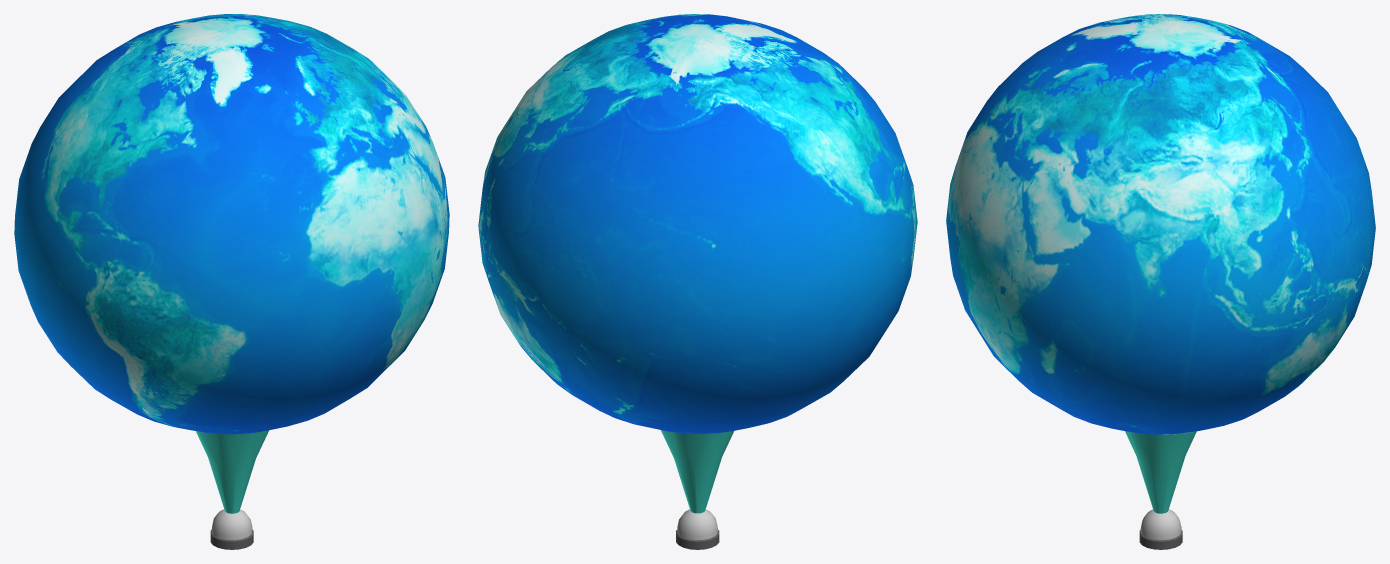
Rendered from Globo_Hollo.fbx.
3 views of the same model, side by side, from view 1: azimuth 30°, elevation 25°; view 2: azimuth 150°, elevation 25°; view 3: azimuth 270°, elevation 25° (orthographic).
Visible parts, largest first — view 1: Sphere001, Cylinder008, lens; view 2: Sphere001, Cylinder008, lens; view 3: Sphere001, Cylinder008, lens.
Boxes of the visible parts, x1=… form: Sphere001: x1=14, y1=14, x2=449, y2=434; Cylinder008: x1=196, y1=430, x2=268, y2=513; lens: x1=211, y1=509, x2=252, y2=540; Sphere001: x1=478, y1=14, x2=917, y2=433; Cylinder008: x1=661, y1=430, x2=733, y2=513; lens: x1=677, y1=509, x2=717, y2=540; Sphere001: x1=946, y1=14, x2=1375, y2=434; Cylinder008: x1=1125, y1=431, x2=1196, y2=513; lens: x1=1140, y1=509, x2=1181, y2=540.
Bounding box in the file's own units: 164 × 209 × 161.
